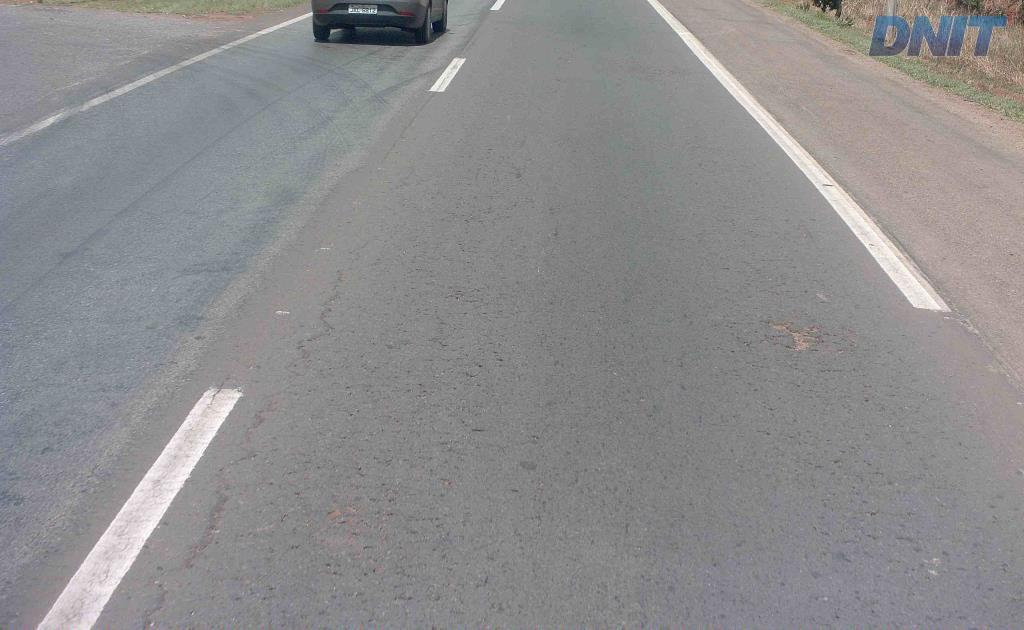pothole: (760, 313, 826, 356)
